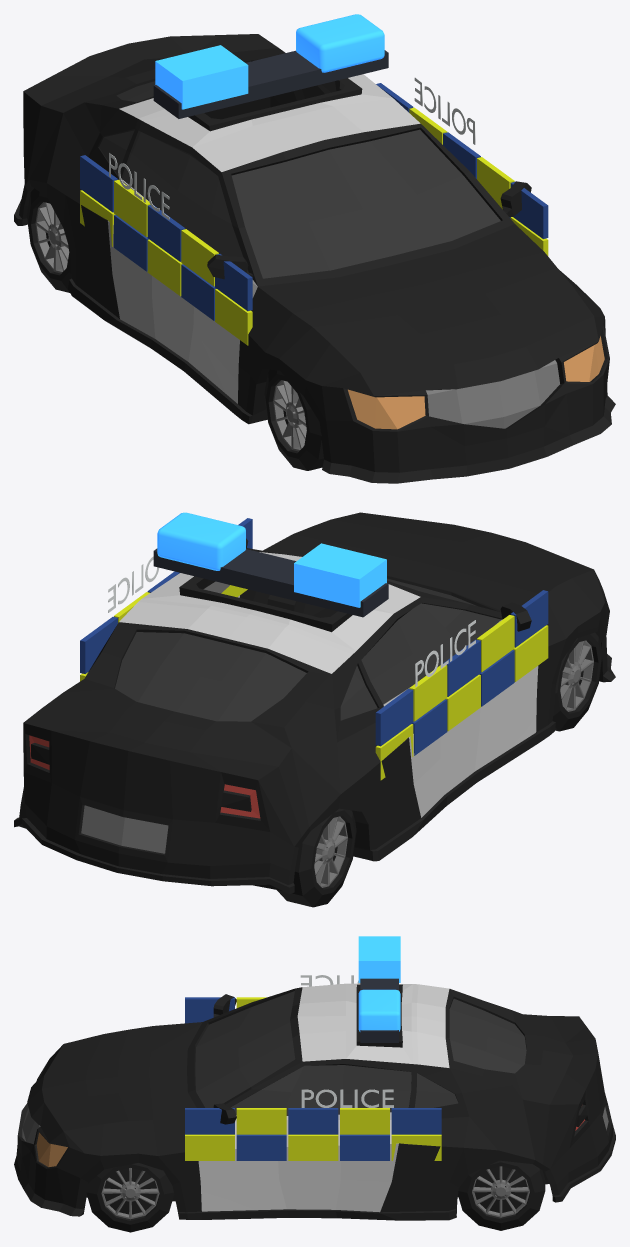
The model's file is police.glb.
3 renders of one model, top to bottom at view 1: azimuth 30°, elevation 25°; view 2: azimuth 150°, elevation 25°; view 3: azimuth 270°, elevation 25°, orthographic. The views are drawn at different scales.
Parts seen in each view (by area): view 1: Cop, Police lightbar base, SirenBlueLeft, SirenBlueRight, Police Battenburg.009, Police Battenburg.005, Police Battenburg, Police Battenburg.007, Police Battenburg.004, Police Battenburg.001, Police Battenburg.003, Police Battenburg.002 (+6 smaller); view 2: Cop, Police lightbar base, SirenBlueLeft, SirenBlueRight, Police Battenburg.009, Police Battenburg.003, Police Battenburg.007, Police Battenburg.005, Police Battenburg, Police Battenburg.006, Police Battenburg.004, Police Battenburg.002 (+5 smaller); view 3: Cop, SirenBlueLeft, SirenBlueRight, Police Battenburg.015, Police Battenburg.019, Police Battenburg.012, Police Battenburg.013, Police Battenburg.014, Police Battenburg.010, Police Battenburg.016, Police Battenburg.017, Police Battenburg.011 (+4 smaller).
Boxes of the visible parts, <box> form: Cop: <box>14,34,615,483</box>; Police lightbar base: <box>153,50,388,118</box>; SirenBlueLeft: <box>155,45,248,109</box>; SirenBlueRight: <box>296,14,384,72</box>; Police Battenburg.009: <box>80,155,117,212</box>; Police Battenburg.005: <box>147,205,185,261</box>; Police Battenburg: <box>215,289,252,345</box>; Police Battenburg.007: <box>114,179,150,237</box>; Police Battenburg.004: <box>147,239,182,296</box>; Police Battenburg.001: <box>215,254,252,311</box>; Police Battenburg.003: <box>181,229,218,286</box>; Police Battenburg.002: <box>181,264,216,320</box>; Cop: <box>14,512,615,907</box>; Police lightbar base: <box>153,548,388,617</box>; SirenBlueLeft: <box>294,543,386,607</box>; SirenBlueRight: <box>157,512,245,570</box>; Police Battenburg.009: <box>375,689,413,746</box>; Police Battenburg.003: <box>477,615,514,672</box>; Police Battenburg.007: <box>409,665,447,721</box>; Police Battenburg.005: <box>443,639,480,696</box>; Police Battenburg: <box>513,625,548,681</box>; Police Battenburg.006: <box>412,699,447,755</box>; Police Battenburg.004: <box>445,674,480,731</box>; Police Battenburg.002: <box>479,650,514,706</box>; Cop: <box>14,983,615,1232</box>; SirenBlueLeft: <box>358,936,400,982</box>; SirenBlueRight: <box>358,989,400,1031</box>; Police Battenburg.015: <box>288,1108,338,1134</box>; Police Battenburg.019: <box>391,1108,441,1134</box>; Police Battenburg.012: <box>236,1134,286,1160</box>; Police Battenburg.013: <box>236,1108,286,1134</box>; Police Battenburg.014: <box>288,1134,338,1160</box>; Police Battenburg.010: <box>185,1134,234,1160</box>; Police Battenburg.016: <box>340,1134,389,1160</box>; Police Battenburg.017: <box>340,1108,389,1134</box>; Police Battenburg.011: <box>185,1108,234,1134</box>.
Bounding box in the file's own units: 1.78 × 1.41 × 3.73.
